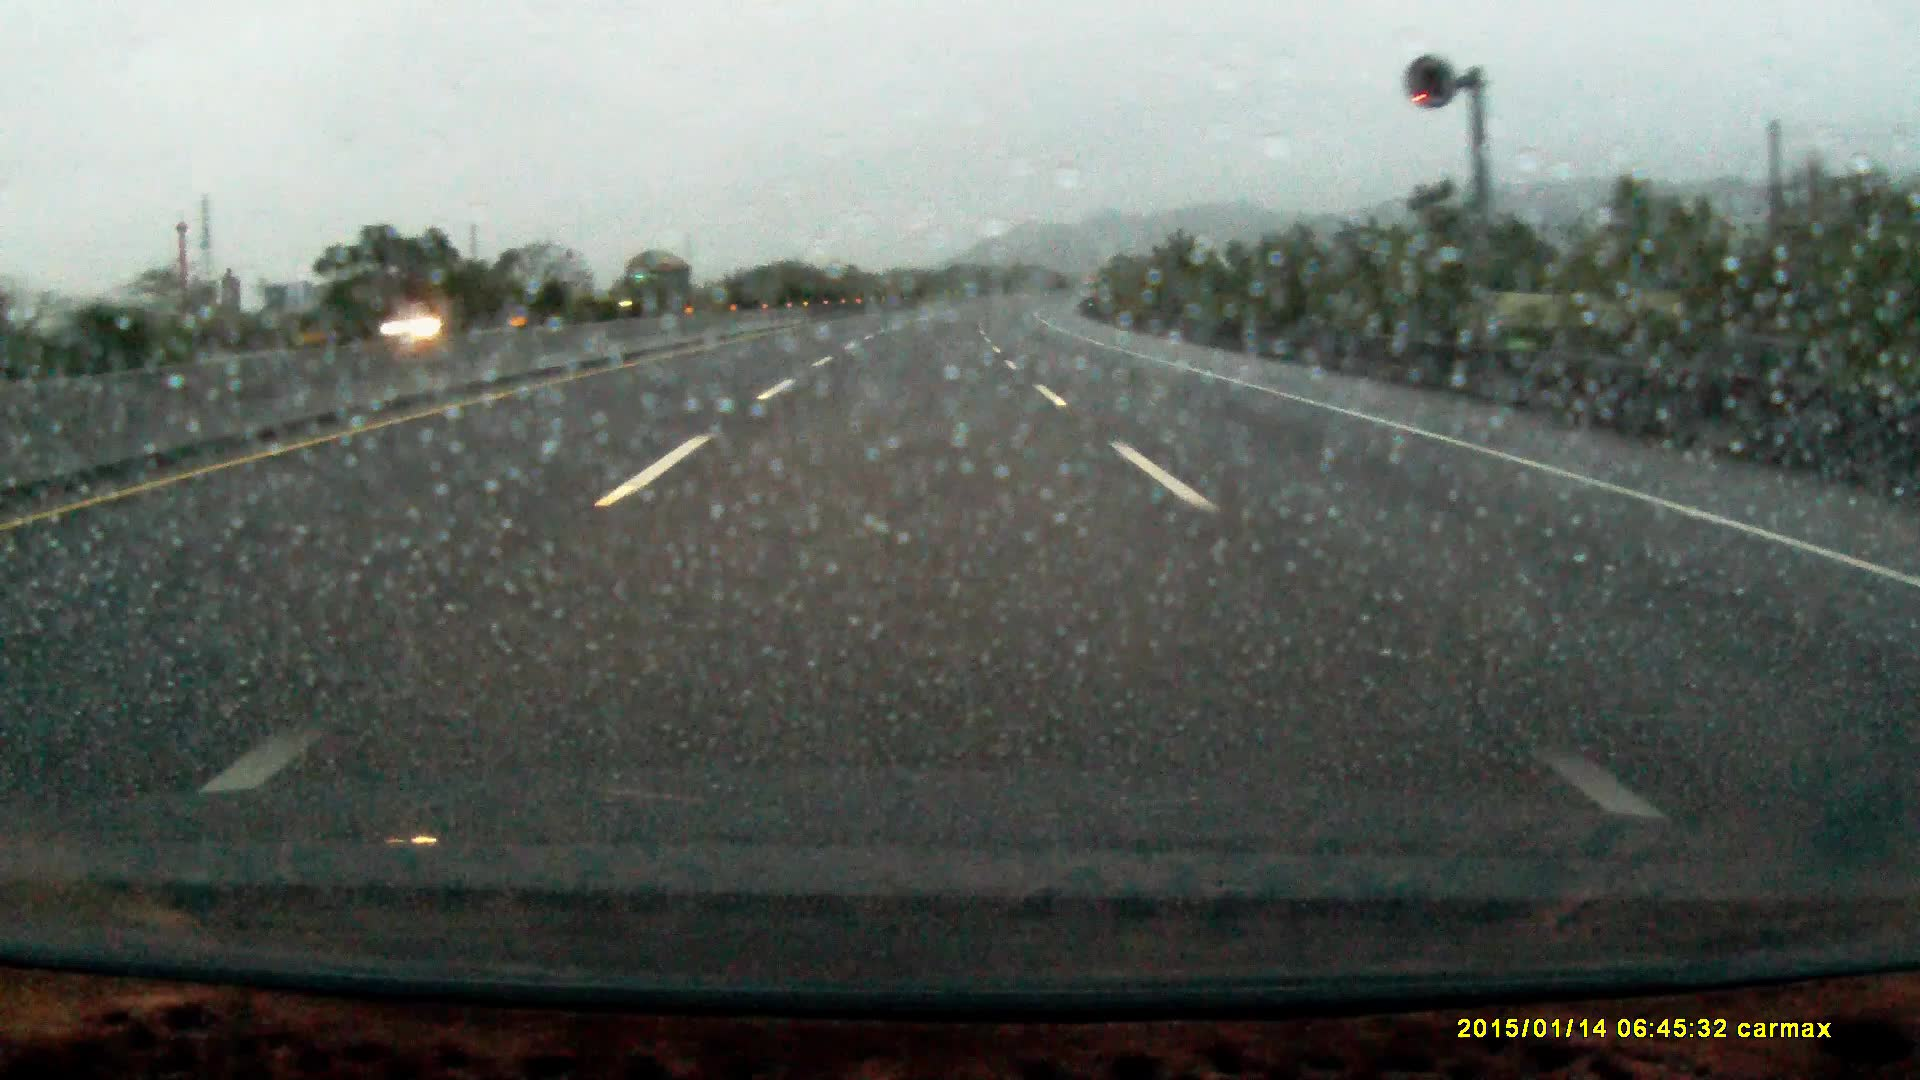vehicle: (615, 255, 696, 320), (377, 301, 484, 339)
